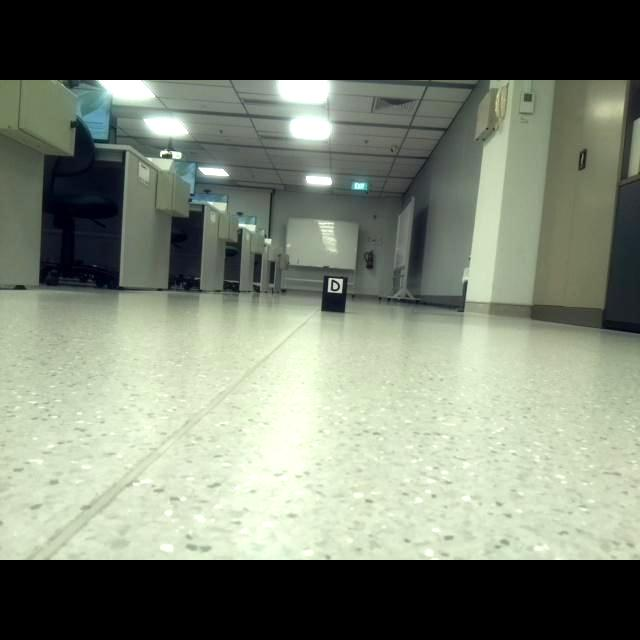D: (330, 279, 341, 292)
